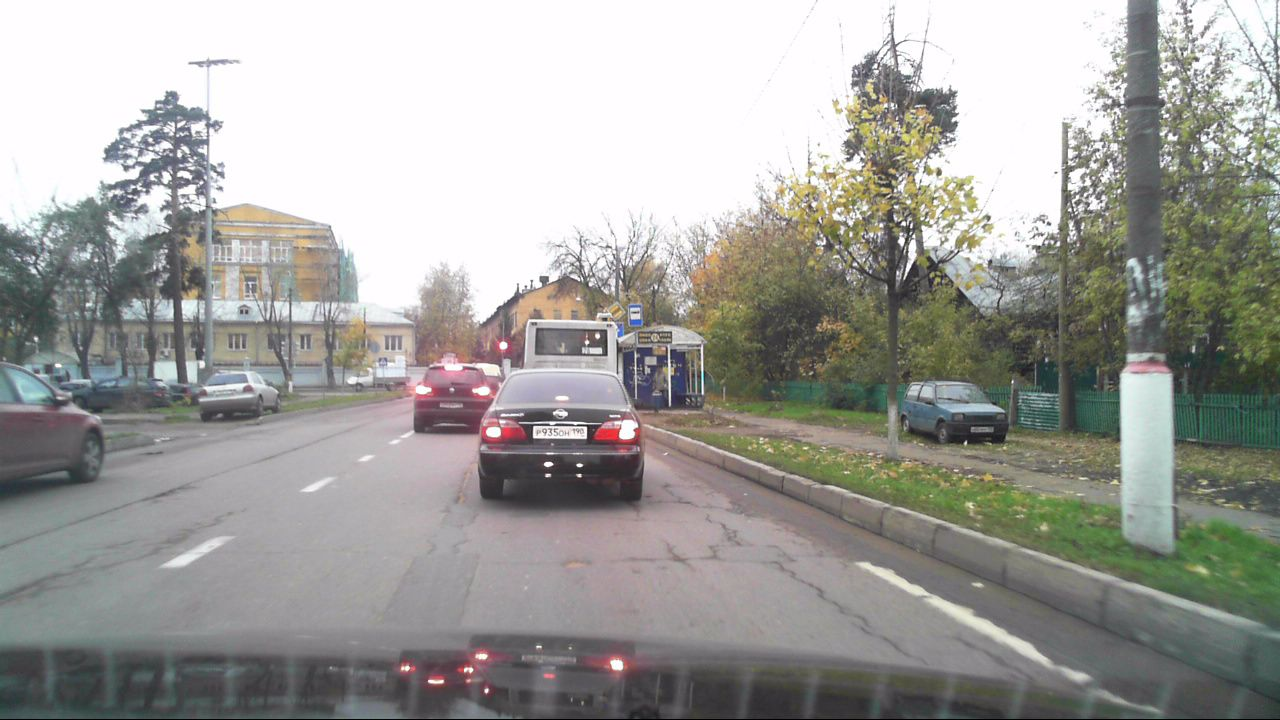main road: (607, 301, 625, 320)
